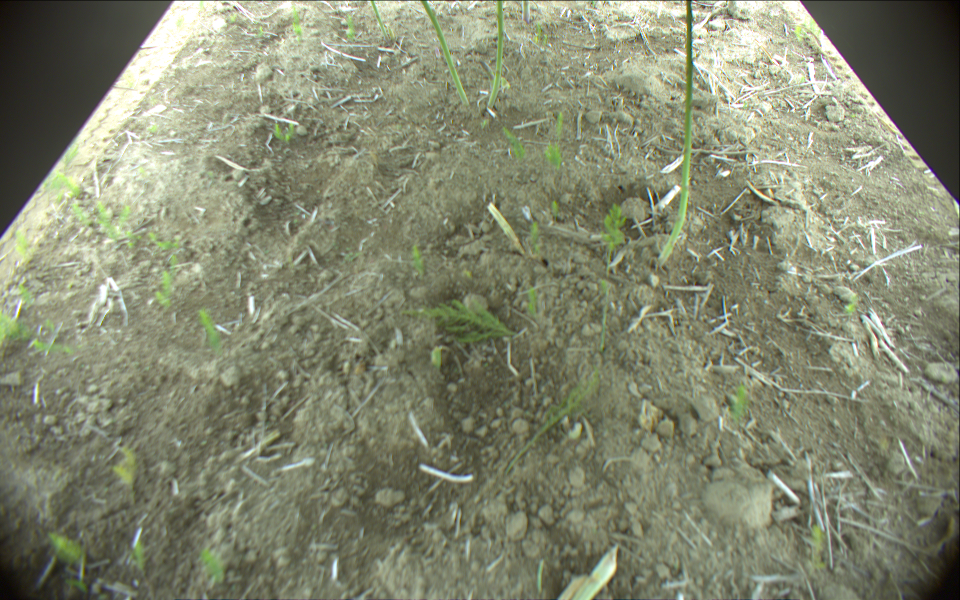aspa: (657, 1, 694, 269), (419, 1, 470, 105), (487, 1, 504, 111), (369, 1, 390, 41), (521, 1, 531, 22)
